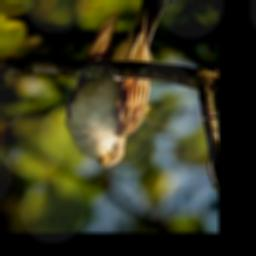Cuckoo: (66, 0, 176, 167)
